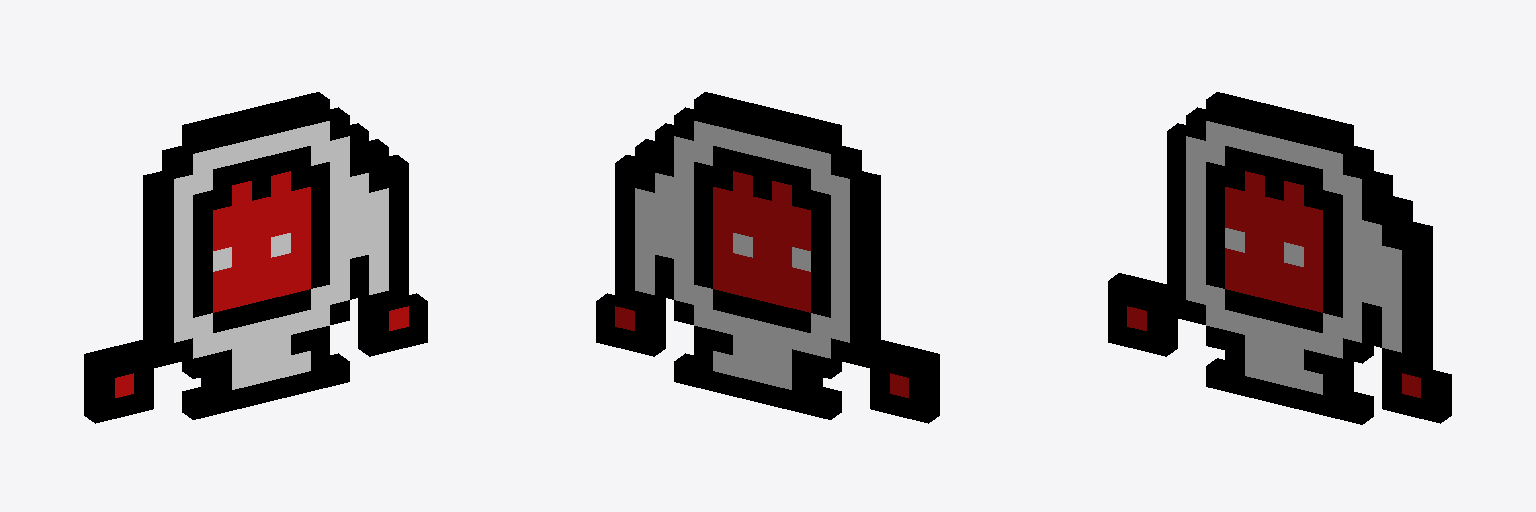
The picture shows the model from 3 angles: view 1: azimuth 30°, elevation 25°; view 2: azimuth 150°, elevation 25°; view 3: azimuth 330°, elevation 25°; orthographic projection.
Visible parts, largest first — view 1: object 1; view 2: object 1; view 3: object 1.
Part boxes in pixels (bbox=[...]): object 1: bbox=[84, 92, 427, 423]; object 1: bbox=[596, 92, 939, 423]; object 1: bbox=[1108, 92, 1451, 424].
Size of the model in its own units: 1.7 by 1.4 by 0.1.
Materials: 1 (1 with a texture image).